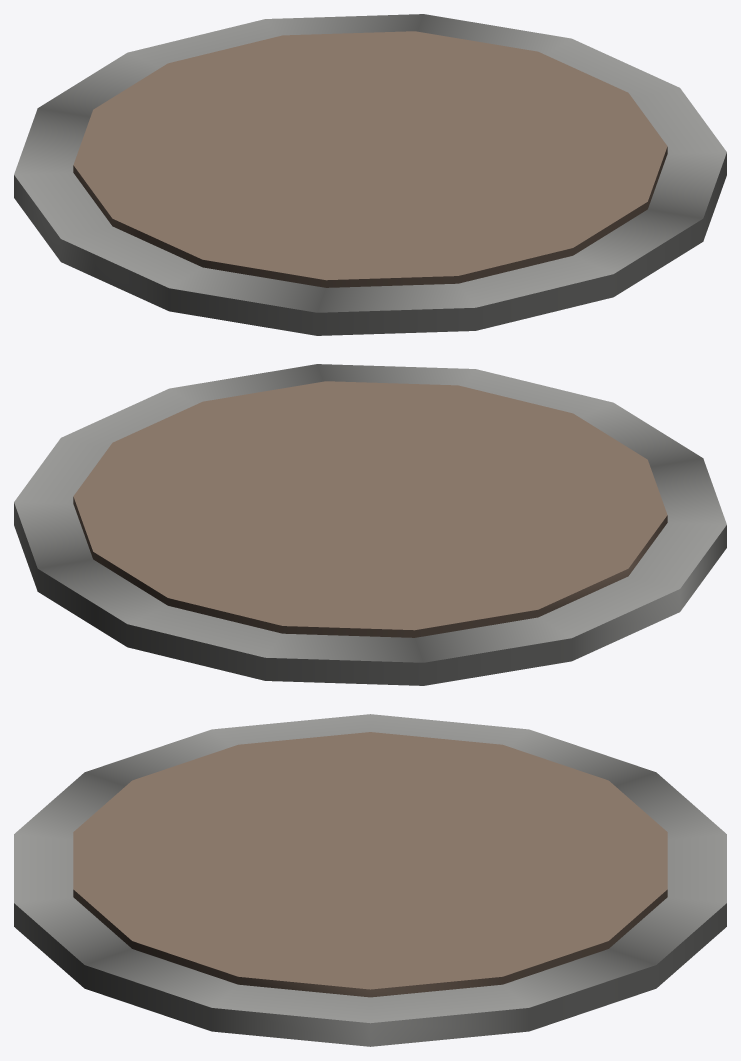
The model's file is manhole.glb.
3 views of the same model, one above another, from view 1: azimuth 30°, elevation 25°; view 2: azimuth 150°, elevation 25°; view 3: azimuth 270°, elevation 25° (orthographic). The views are drawn at different scales.
Parts seen in each view (by area): view 1: props_manhole; view 2: props_manhole; view 3: props_manhole.
Part boxes in pixels (x1,y1,x2,y2): props_manhole: (14,14,726,335); props_manhole: (14,364,726,685); props_manhole: (14,714,726,1046).
Size of the model in its own units: 0.84 by 0.04 by 0.8189.
